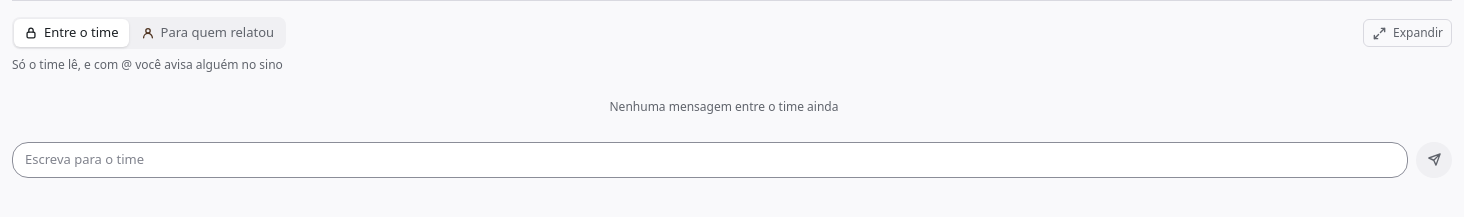
Test: a resposta a quem relatou espera antes de sair › a resposta que falha depois da espera volta ao campo, com o motivo
Step 1. Click the tab "Para quem relatou" → [207, 33], box [131,19,284,47]
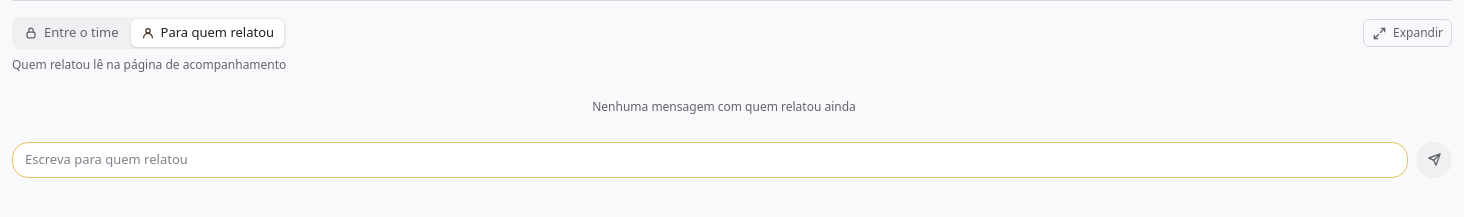
Step 2. Type "Ja corrigimos, pode testar?" into the text box labelled "para quem relatou" → [710, 160], box [12,142,1408,178]
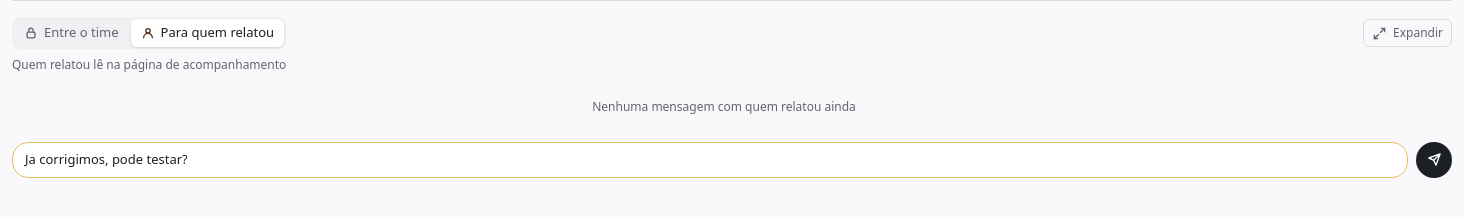
Step 3. Click the button named "Escrever para quem relatou" → [1434, 160], box [1416,142,1452,178]
Wait 5000 ms
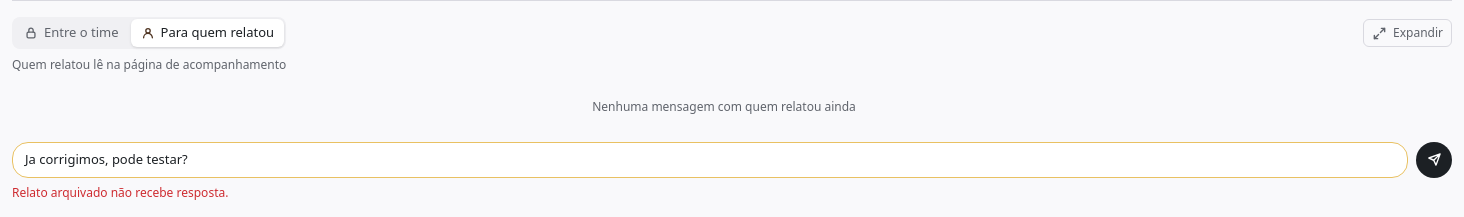
Check: the text "Relato arquivado não recebe resposta." is shown, box [12,184,228,200]
